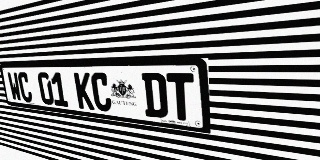0: (37, 72, 55, 105)
1: (49, 72, 68, 107)
C: (90, 73, 112, 112), (17, 72, 33, 103)
D: (141, 73, 168, 119)
K: (74, 72, 95, 110)
T: (166, 73, 195, 122)
W: (7, 72, 22, 102)
